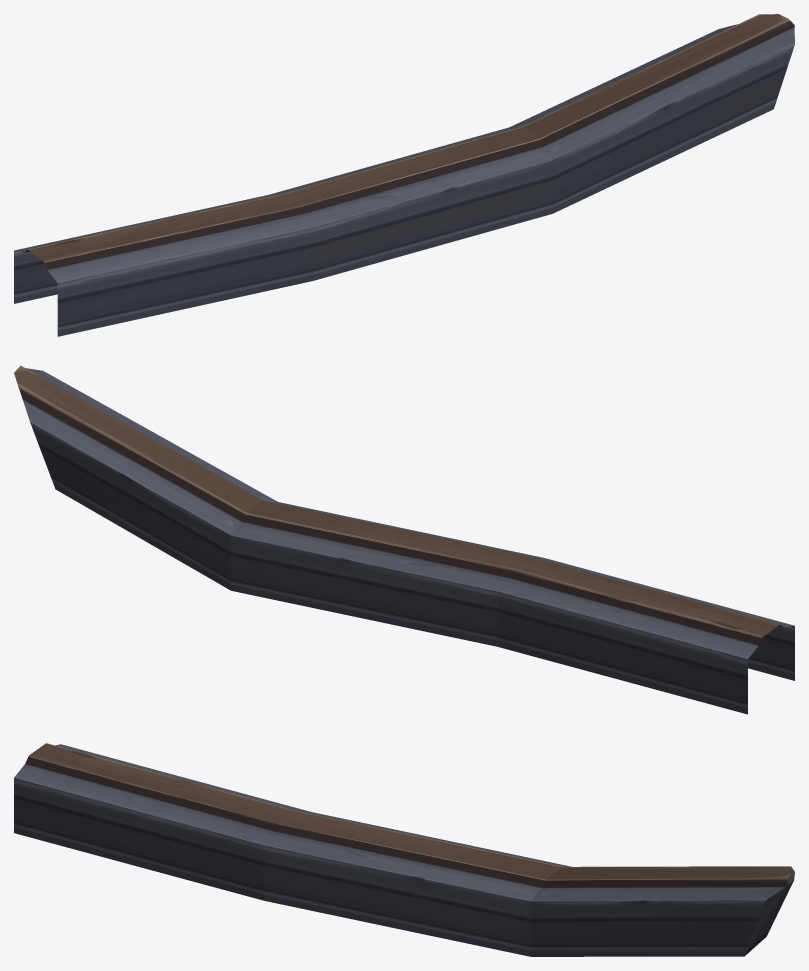
The model's file is yw_ziyuanpingtai_tiegui_002.FBX.
3 renders of one model, top to bottom at view 1: azimuth 30°, elevation 25°; view 2: azimuth 150°, elevation 25°; view 3: azimuth 330°, elevation 25°, orthographic. The views are drawn at different scales.
Parts seen in each view (by area): view 1: yw_ziyuanpingtai_tiegui_002; view 2: yw_ziyuanpingtai_tiegui_002; view 3: yw_ziyuanpingtai_tiegui_002.
Part boxes in pixels (left/top/right/bottom): yw_ziyuanpingtai_tiegui_002: left=14, top=14, right=794, bottom=336; yw_ziyuanpingtai_tiegui_002: left=14, top=365, right=794, bottom=714; yw_ziyuanpingtai_tiegui_002: left=14, top=743, right=794, bottom=956.
Size of the model in its own units: 427 by 71.92 by 53.27.
